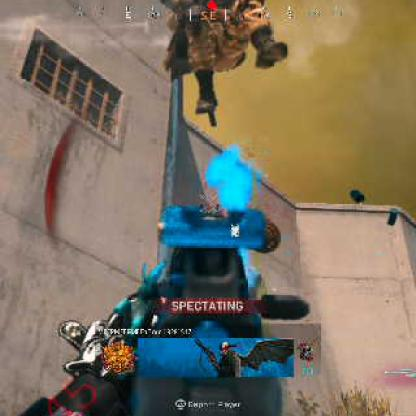enemy: (162, 1, 288, 125), (213, 342, 243, 376)
